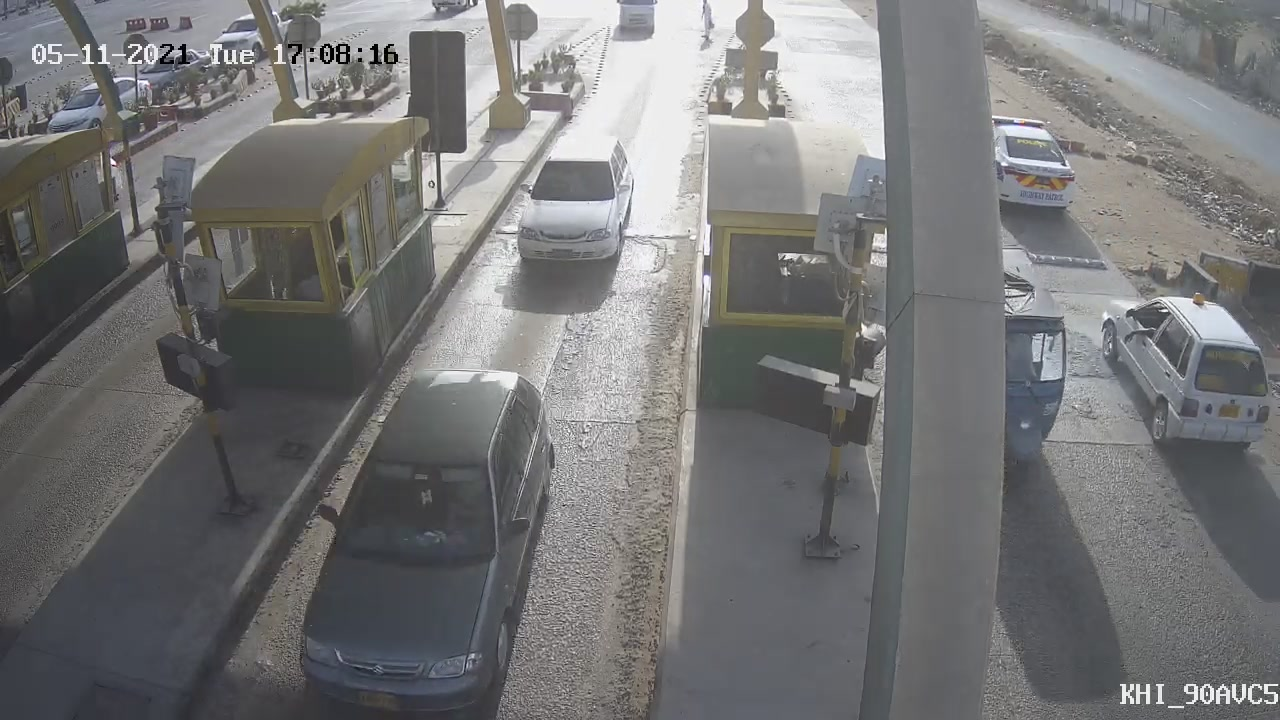F1: (498, 117, 646, 290)
